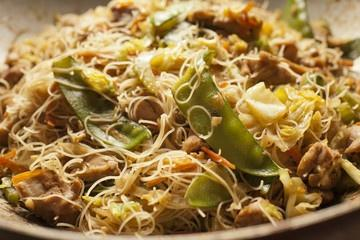pancit bihon: (0, 0, 358, 232)
